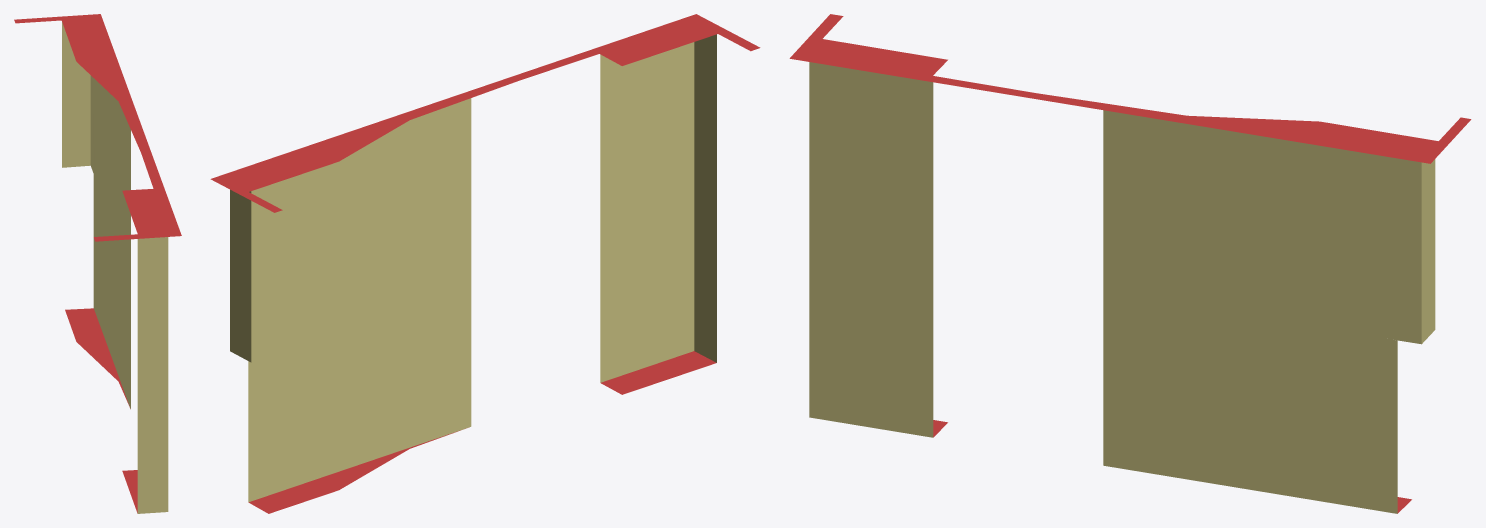
The picture shows the model from 3 angles, left to right: view 1: azimuth 30°, elevation 25°; view 2: azimuth 150°, elevation 25°; view 3: azimuth 270°, elevation 25°; orthographic projection. The views are drawn at different scales.
Visible parts, largest first — view 1: group_5, group_3, group_6; view 2: group_5, group_3, group_6; view 3: group_5, group_3.
Boxes of the visible parts, x1=… form: group_5: x1=62, y1=22, x2=168, y2=513; group_3: x1=14, y1=14, x2=181, y2=241; group_6: x1=65, y1=308, x2=137, y2=513; group_5: x1=230, y1=34, x2=716, y2=502; group_3: x1=210, y1=14, x2=760, y2=212; group_6: x1=248, y1=351, x2=716, y2=513; group_5: x1=809, y1=62, x2=1435, y2=513; group_3: x1=789, y1=14, x2=1471, y2=163.
Bounding box in the file's own units: 11.43 × 21.99 × 12.89.
